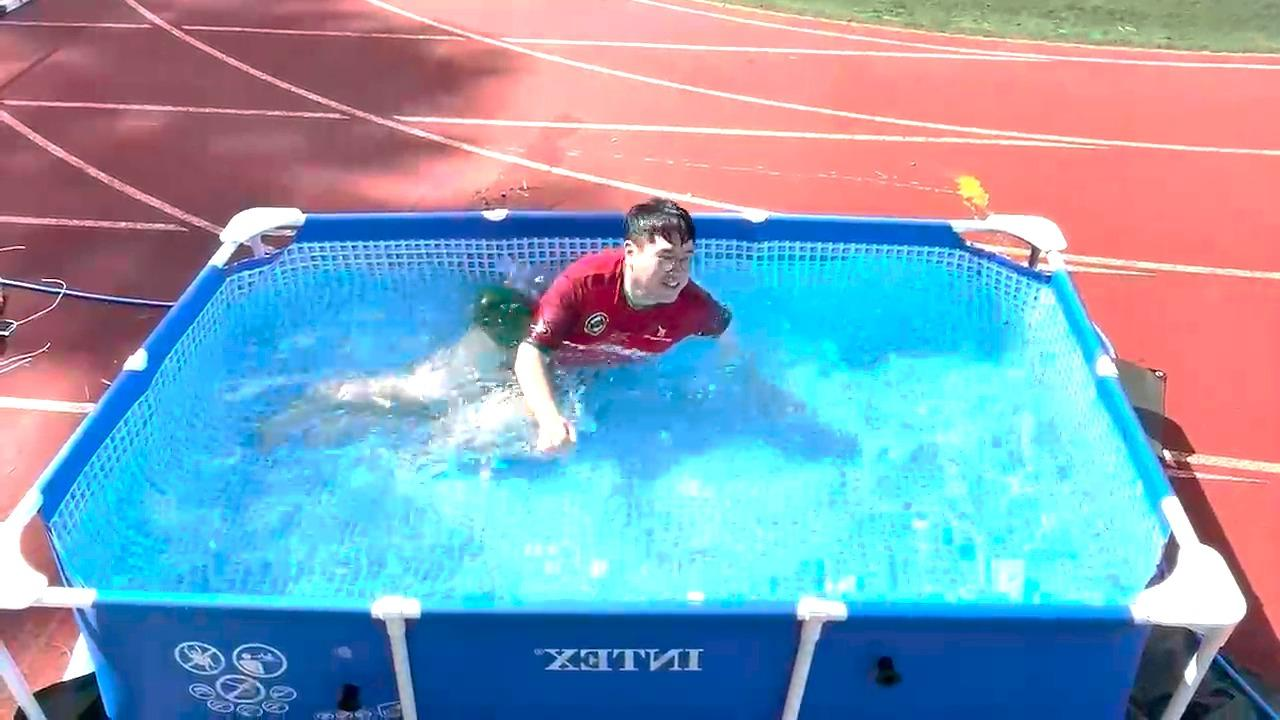Swimming: (285, 164, 732, 482)
